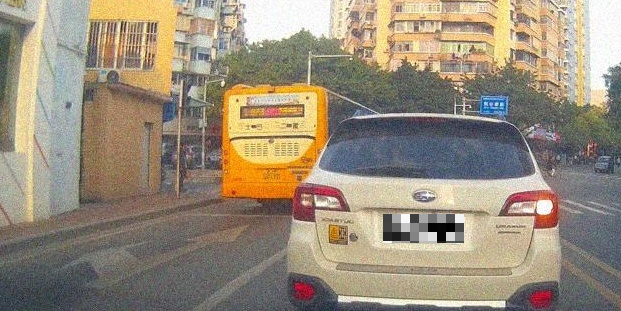L_light: (292, 182, 351, 223)
R_light: (498, 190, 558, 230)
T_light: (411, 117, 446, 123)
day-right: (286, 112, 561, 311)
plate_1: (383, 214, 464, 243)
